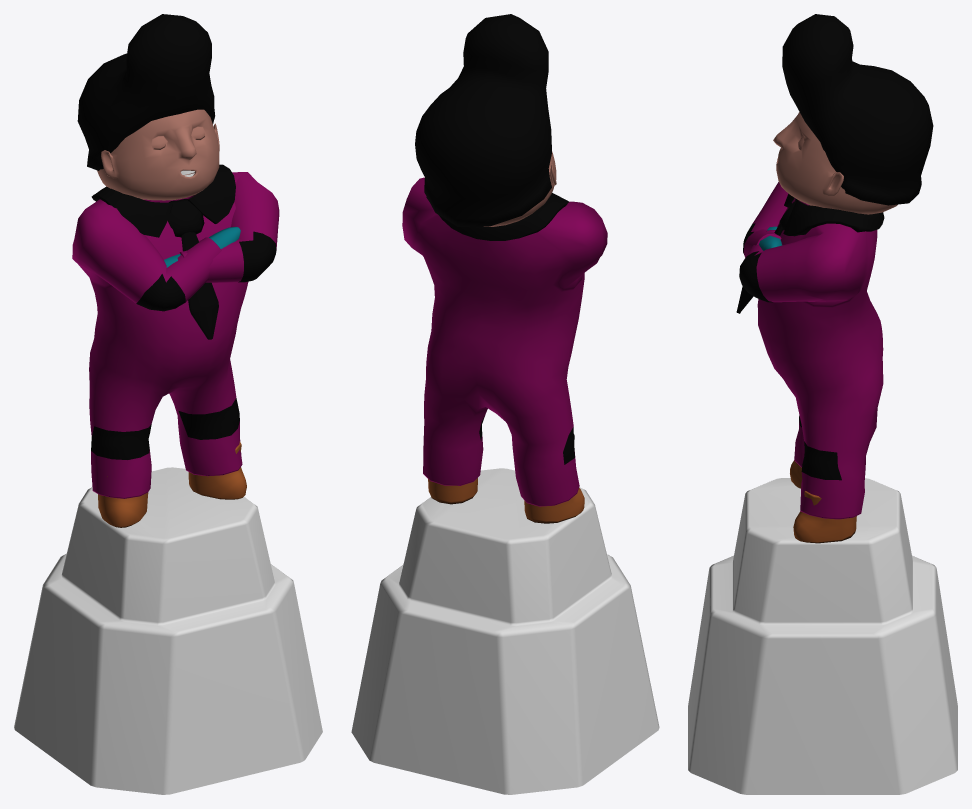
Rendered from SMstatueV0.1.fbx.
The picture shows the model from 3 angles, left to right: view 1: azimuth 30°, elevation 25°; view 2: azimuth 150°, elevation 25°; view 3: azimuth 270°, elevation 25°; orthographic projection.
Visible parts, largest first — view 1: statue_pedestal, statue_body; view 2: statue_pedestal, statue_body; view 3: statue_pedestal, statue_body.
Part boxes in pixels (x1,y1,x2,y2): statue_pedestal: (14,467,322,794); statue_body: (72,14,279,527); statue_pedestal: (351,468,659,794); statue_body: (402,14,607,523); statue_pedestal: (688,478,957,794); statue_body: (736,14,933,543).
Size of the model in its own units: 160 by 472 by 160.
